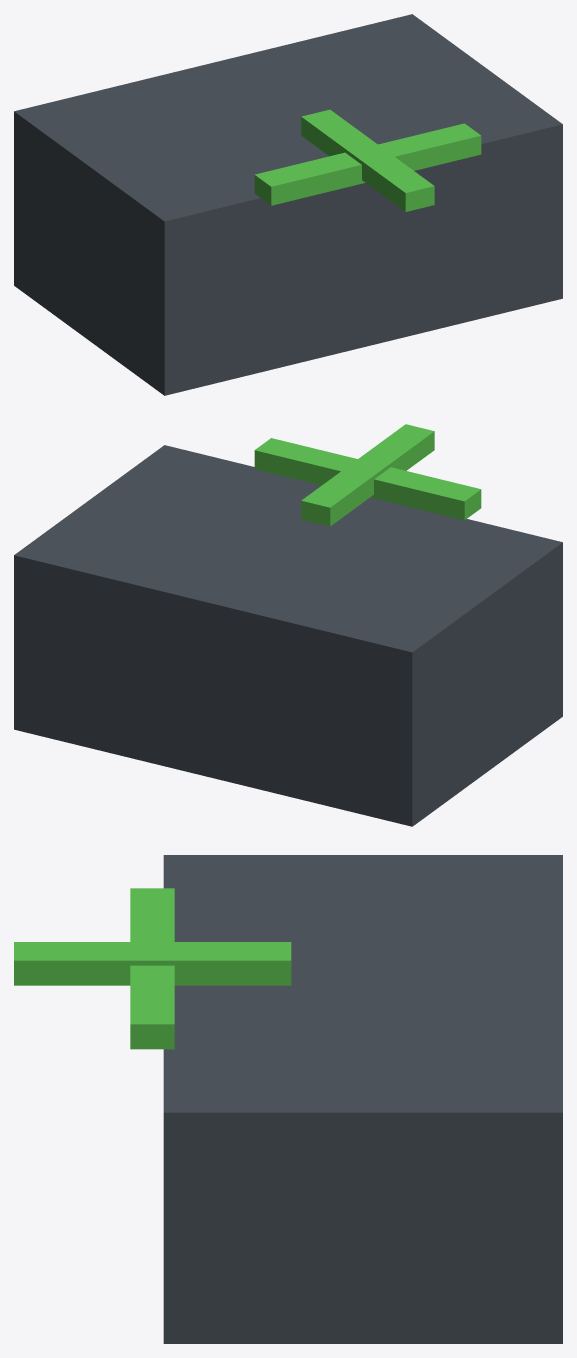
Rendered from pickup.med_case.glb.
3 renders of one model, top to bottom at view 1: azimuth 30°, elevation 25°; view 2: azimuth 150°, elevation 25°; view 3: azimuth 270°, elevation 25°, orthographic. The views are drawn at different scales.
Parts seen in each view (by area): view 1: med_case, med_cross_a, med_cross_b; view 2: med_case, med_cross_a, med_cross_b; view 3: med_case, med_cross_b, med_cross_a.
Part boxes in pixels (left/top/right/bottom): med_case: left=14, top=14, right=562, bottom=395; med_cross_a: left=254, top=123, right=481, bottom=205; med_cross_b: left=301, top=109, right=434, bottom=211; med_case: left=14, top=445, right=562, bottom=826; med_cross_a: left=254, top=438, right=481, bottom=520; med_cross_b: left=301, top=424, right=434, bottom=526; med_case: left=163, top=855, right=562, bottom=1343; med_cross_b: left=14, top=942, right=291, bottom=985; med_cross_a: left=130, top=888, right=174, bottom=1049.
Bounding box in the file's own units: 1.1 × 0.525 × 0.99.
